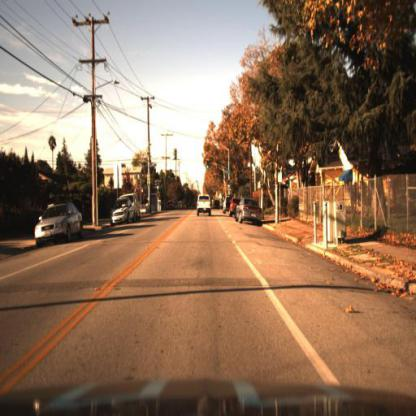car: (32, 196, 89, 251), (237, 196, 265, 230), (110, 196, 135, 229), (197, 192, 215, 220)
trafficLight-Green: (226, 180, 233, 192)
